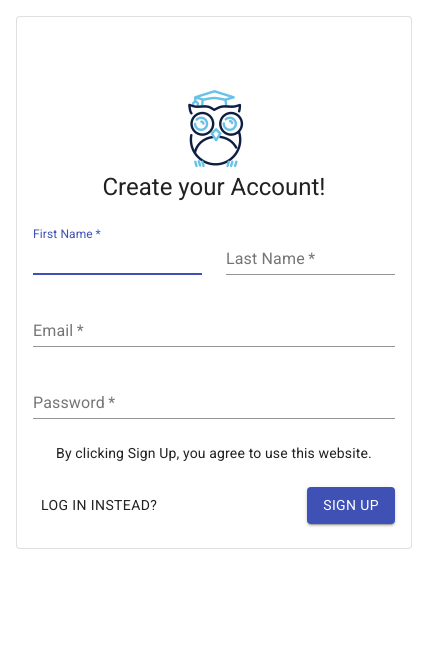
it: Register › empty inputs should provide error messages
Click the button "Sign Up" at {"x": 351, "y": 505}, box [307,487,395,524]
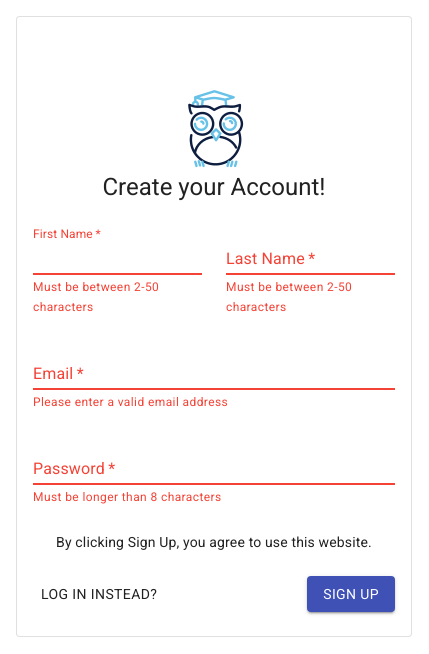
Expected: the text "Must be between 2-50 characters" is shown 2 times, [33,280,159,314]; [226,280,352,314]
Expected: the text "Please enter a valid email address" is shown, [33,395,228,409]
Expected: the text "Must be longer than 8 characters" is shown, [33,490,222,504]
